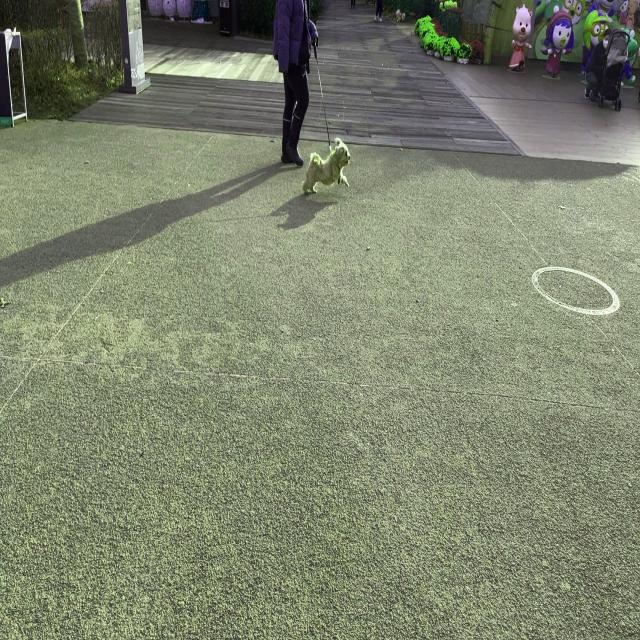Leashed_Dog: (285, 41, 351, 195)
